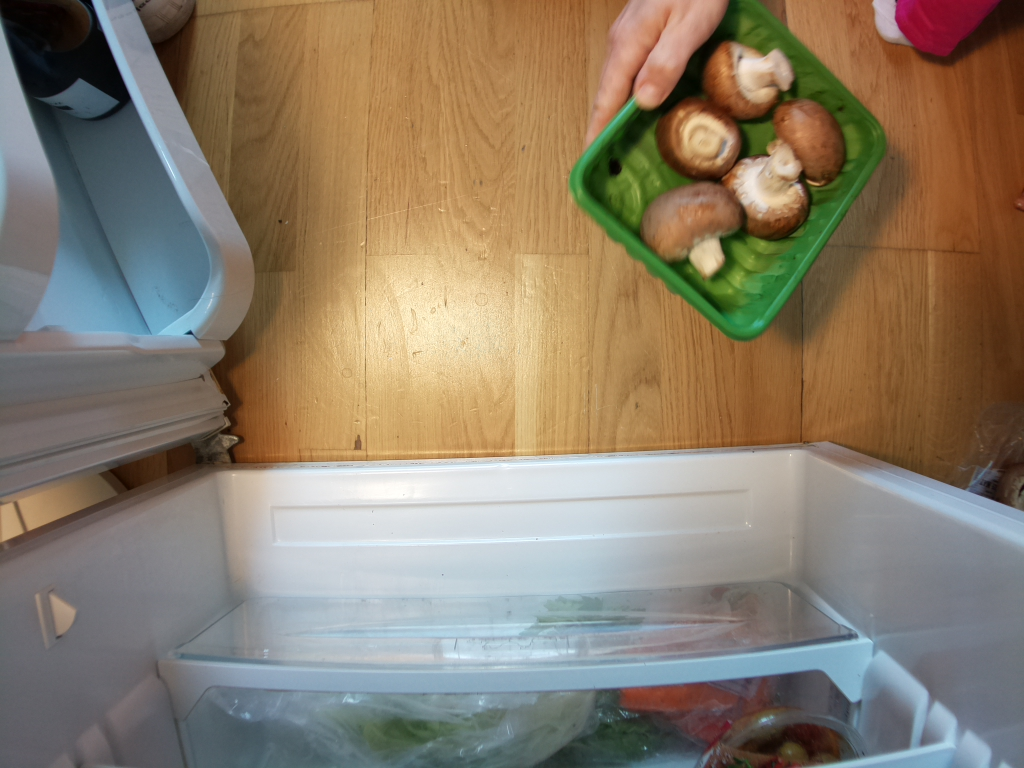mushrooms: (573, 1, 887, 344)
